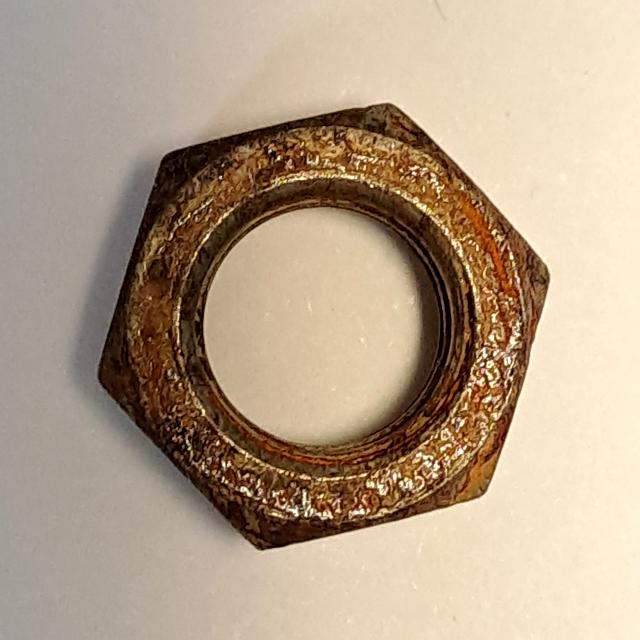Rust: (83, 91, 561, 564)
